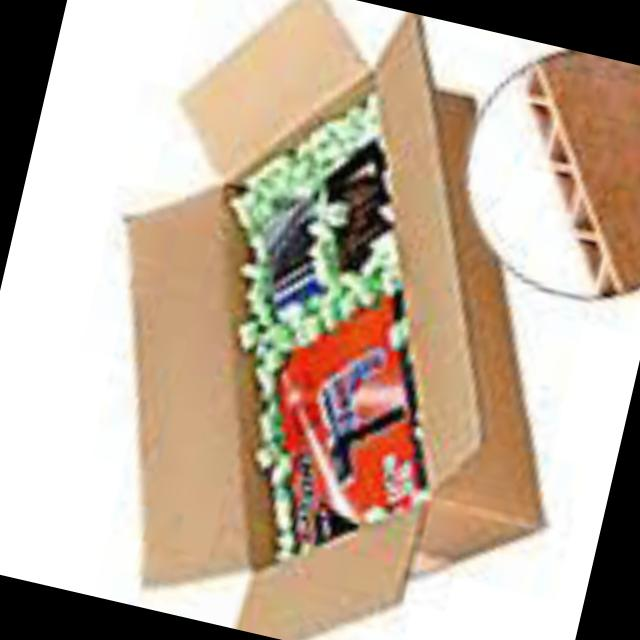cardboard paper: (118, 0, 529, 640)
